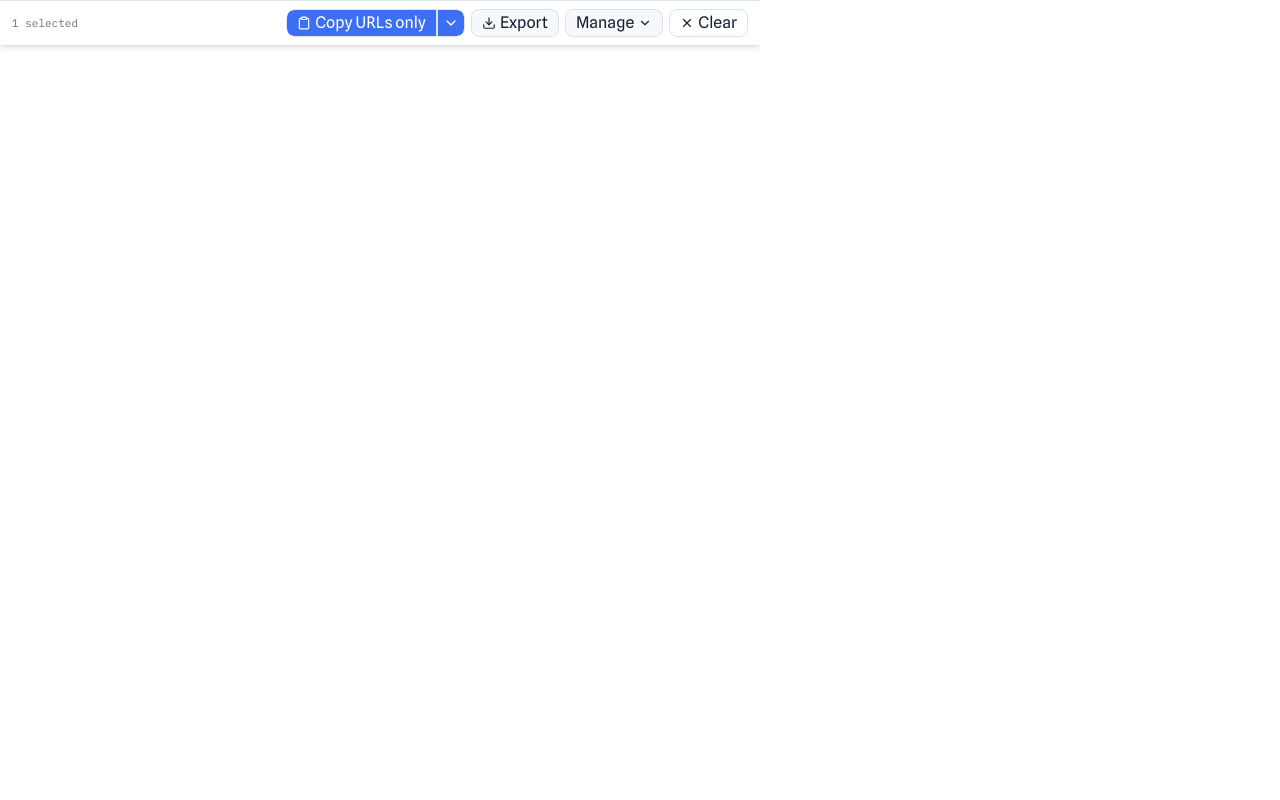
SelectionDock › shows a success toast only after the clipboard write resolves
This screenshot has width=1280, height=800.
Click the button "Copy URLs only" at (362, 23), box x1=286 y1=9 x2=437 y2=37
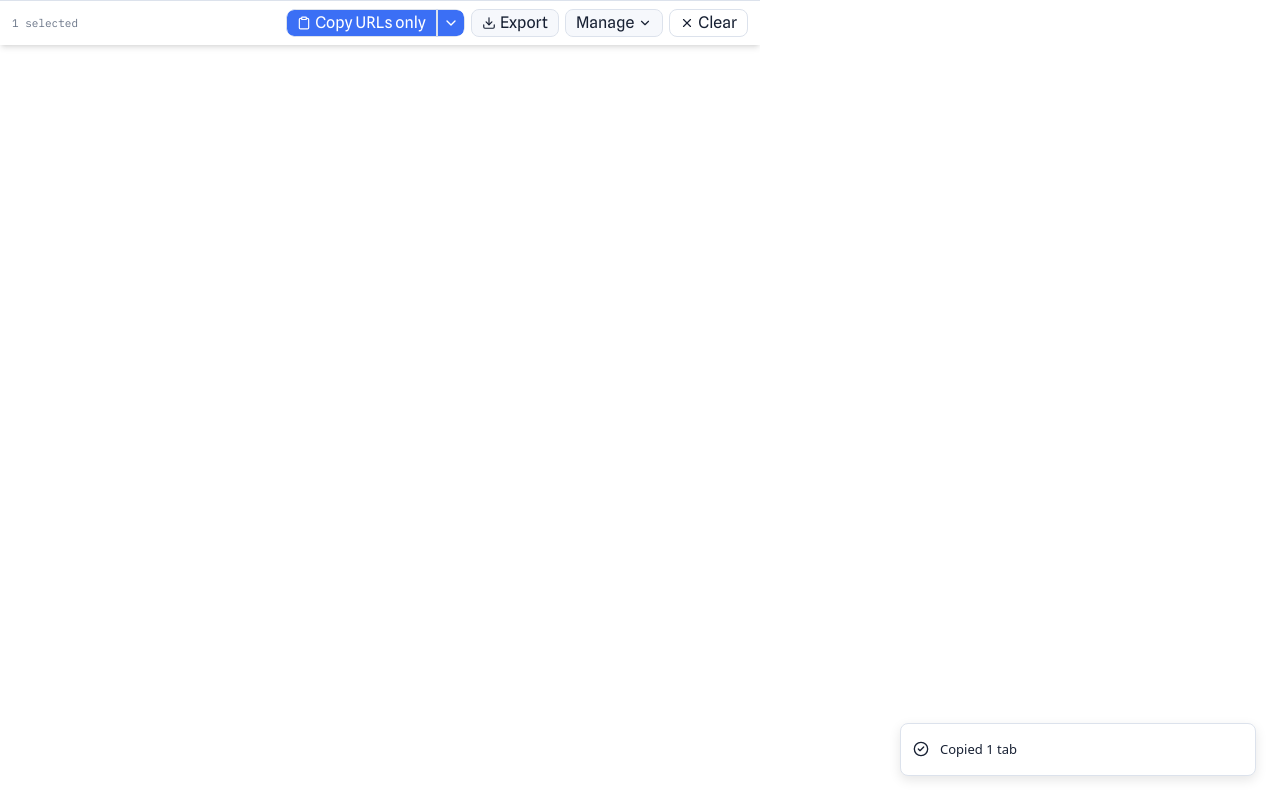
Check: the text "Copied 1 tab" is shown, box x1=940 y1=740 x2=1017 y2=759
